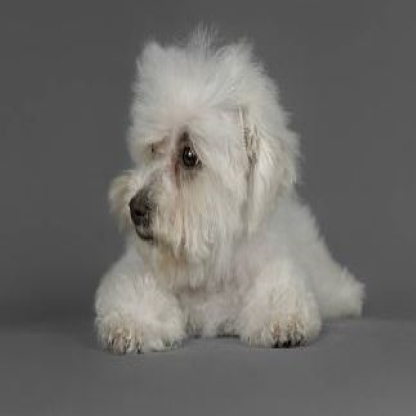maltese: (88, 19, 374, 355)
